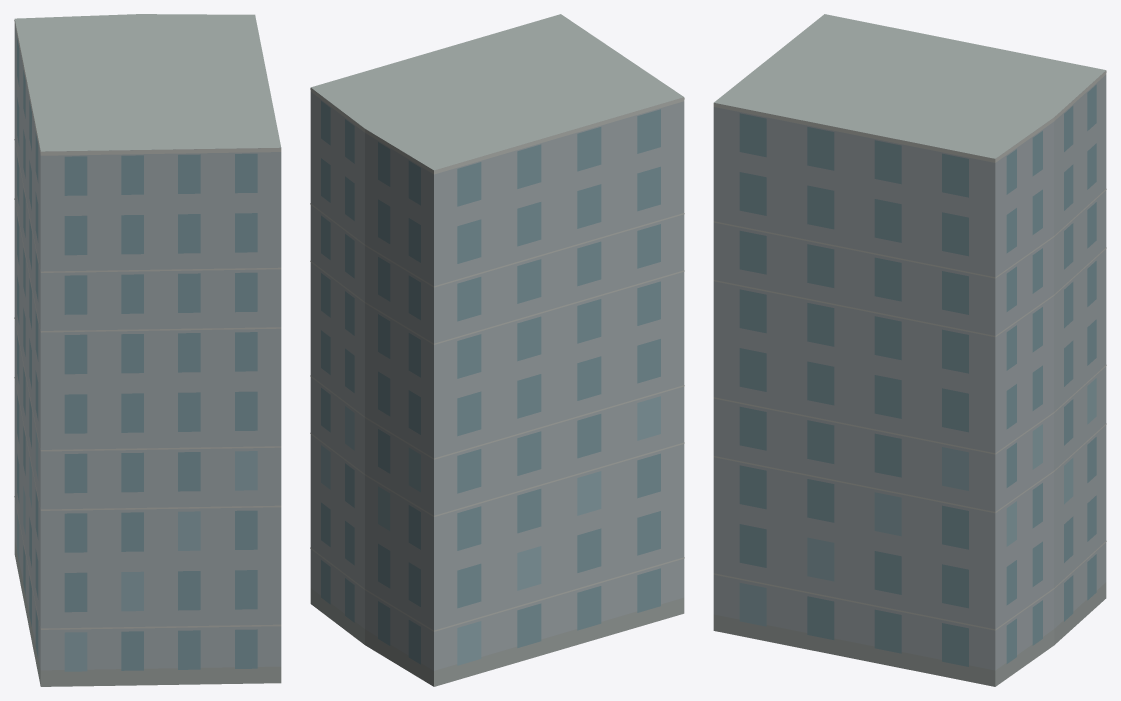
File: survey-upis-32978629.glb
3 renders of one model, left to right at view 1: azimuth 30°, elevation 25°; view 2: azimuth 150°, elevation 25°; view 3: azimuth 270°, elevation 25°, orthographic. The views are drawn at different scales.
Parts seen in each view (by area): view 1: survey-upis-32978629.tmp; view 2: survey-upis-32978629.tmp; view 3: survey-upis-32978629.tmp.
Boxes of the visible parts, box(x1,y1,x2,y2) form: survey-upis-32978629.tmp: box(14, 14, 281, 686); survey-upis-32978629.tmp: box(310, 14, 684, 686); survey-upis-32978629.tmp: box(713, 14, 1106, 686).
Size of the model in its own units: 18.2 by 30.9 by 20.85.
